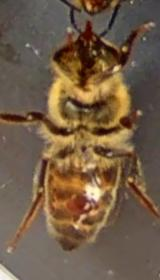varroa_mite: (58, 184, 97, 220)
